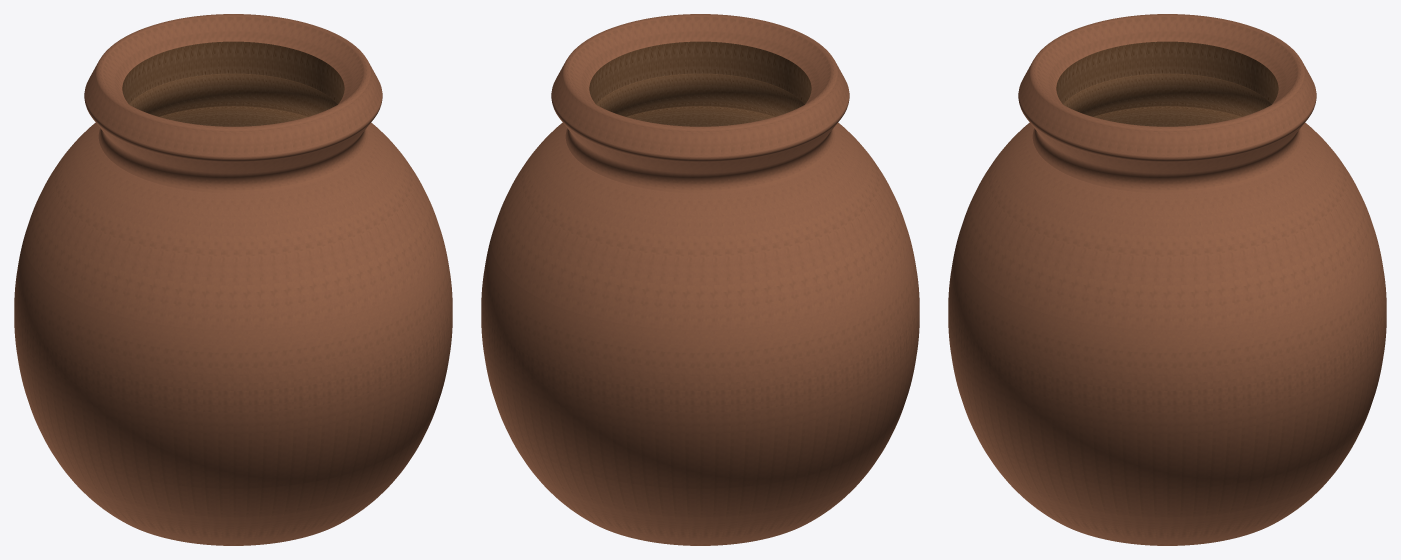
File: basija.fbx
3 views of the same model, side by side, from view 1: azimuth 30°, elevation 25°; view 2: azimuth 150°, elevation 25°; view 3: azimuth 270°, elevation 25° (orthographic).
Parts seen in each view (by area): view 1: Component_1_1; view 2: Component_1_1; view 3: Component_1_1.
Part boxes in pixels (box(x1,y1,x2,y2)): Component_1_1: box(14, 14, 452, 545); Component_1_1: box(481, 14, 919, 545); Component_1_1: box(948, 14, 1386, 545).
Bounding box in the file's own units: 645 × 679 × 645.
